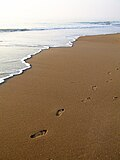human_footprint: (30, 130, 47, 137), (56, 108, 64, 116), (81, 97, 90, 102), (91, 85, 97, 91), (106, 78, 111, 82), (113, 96, 117, 99)
